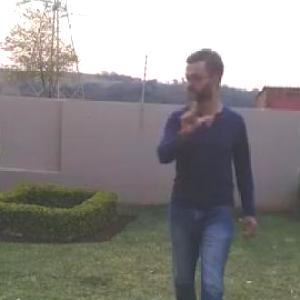land_hand: (174, 84, 214, 136)
